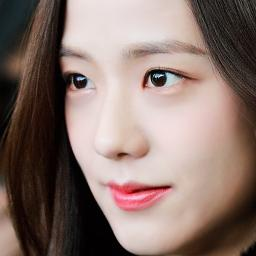face: (67, 0, 241, 256)
